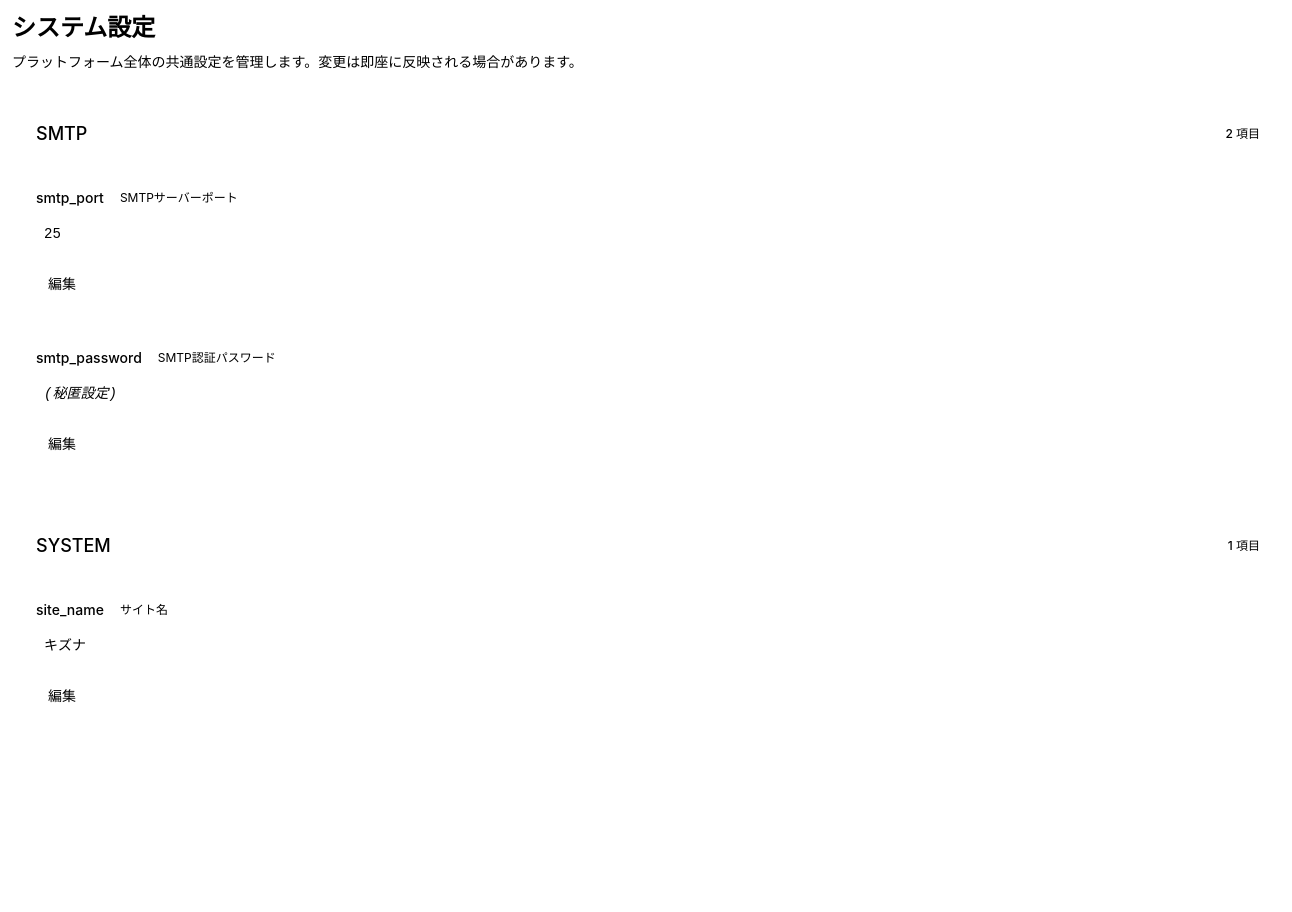
Test: SystemSettingsPage › 文字列設定は編集時に複数行入力欄になり現在値が初期表示される
Click the text "キズナ".
click(65, 646)  # box [44,638,86,654]
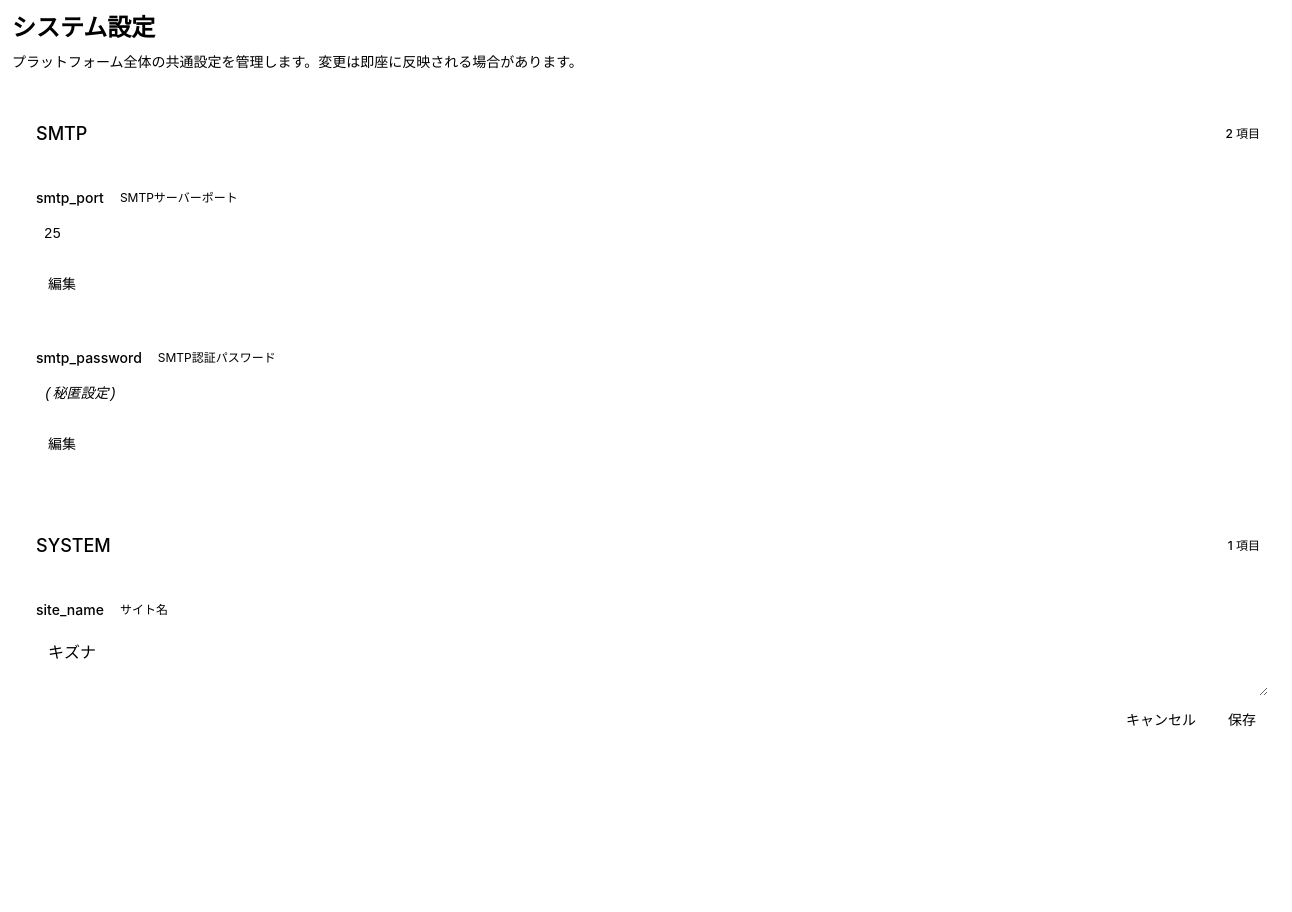
Expected: the text box holds "キズナ", [36,632,1268,696]
